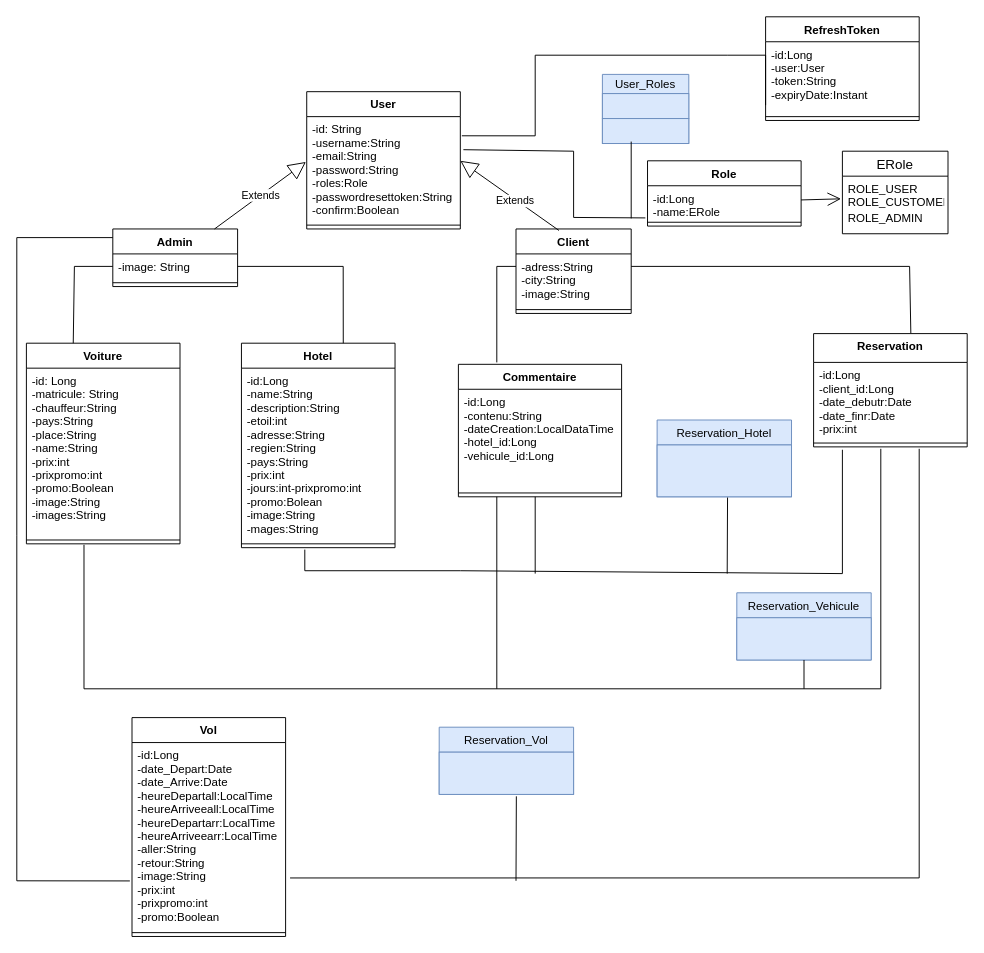
Some shapes in this 984 by 953 pixel diagram are drawn without their labels. Each missing label, with the centre of its shape:
-reservation_id:Long -hotel_id:Long: point (724, 470)
-reservation_id:Long -vehicule_id:Long: point (803, 638)
-reservation_id:Long -vol_id:Long: point (506, 772)
-role_id:Long: point (645, 131)
-user_id:Long: point (645, 106)
